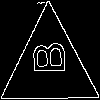B: (24, 41, 66, 75)
